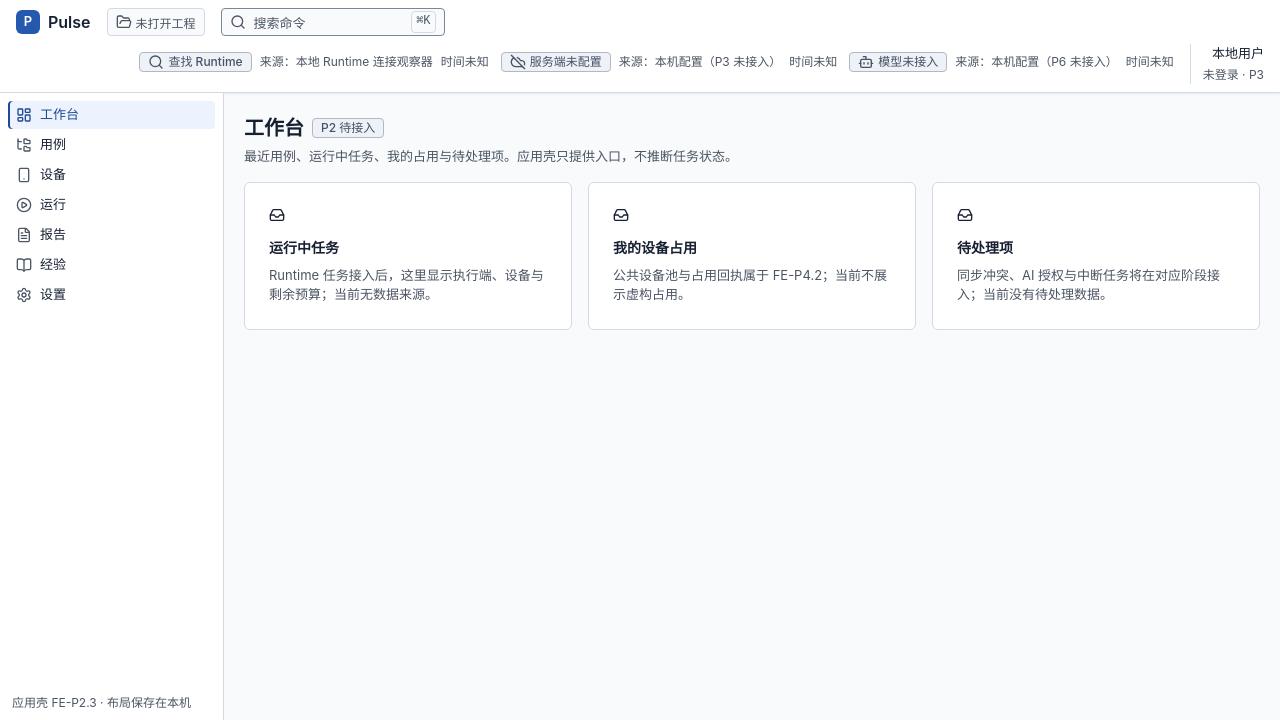
it: renders the workbench shell and routes through the side navigation
Expected: the heading "工作台" is shown, [244,112,304,142]
Expected: the navigation bar named "主导航" shows "用例", [8,130,215,158]
Step 1. Click the link "用例" → (41, 144), box [16,136,66,153]
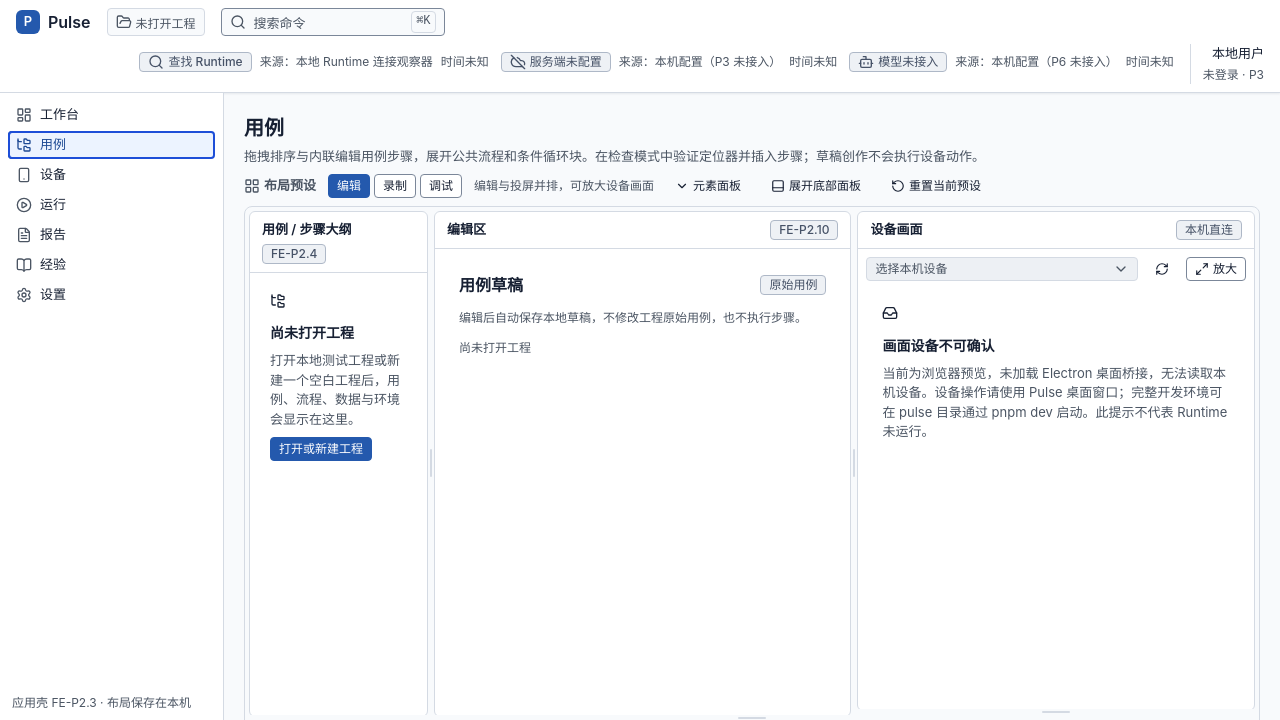
Expected: the heading "用例" is shown, [244,112,284,142]
